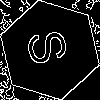S: (25, 25, 78, 68)
